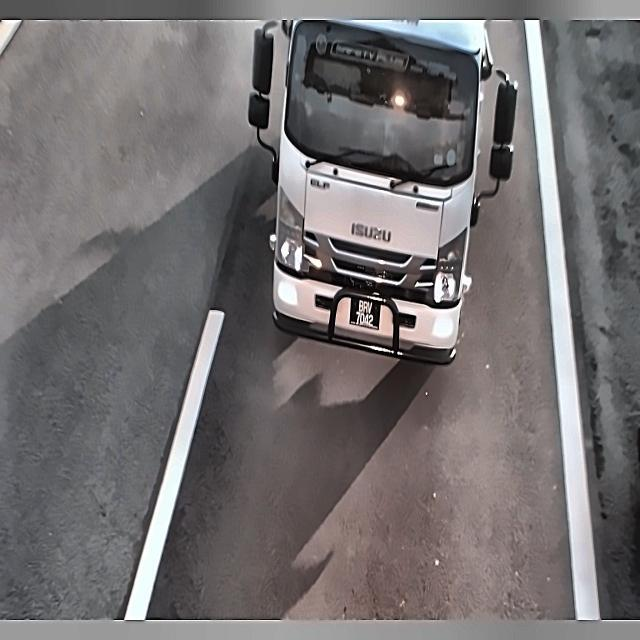car: (346, 291, 384, 338)
